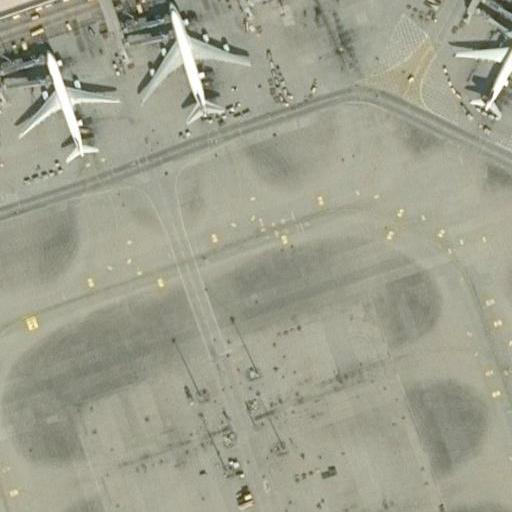Aircraft: (132, 0, 251, 131), (14, 46, 123, 167), (448, 15, 511, 113)
